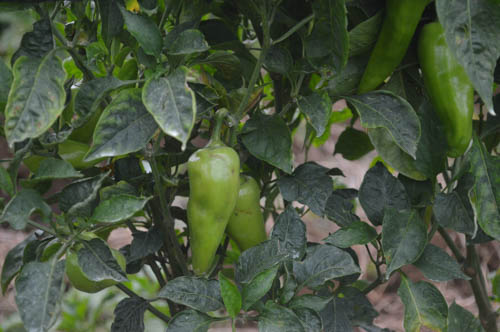ChiliPepper: (182, 147, 238, 280), (421, 25, 475, 154), (357, 4, 420, 106), (229, 180, 272, 246)
